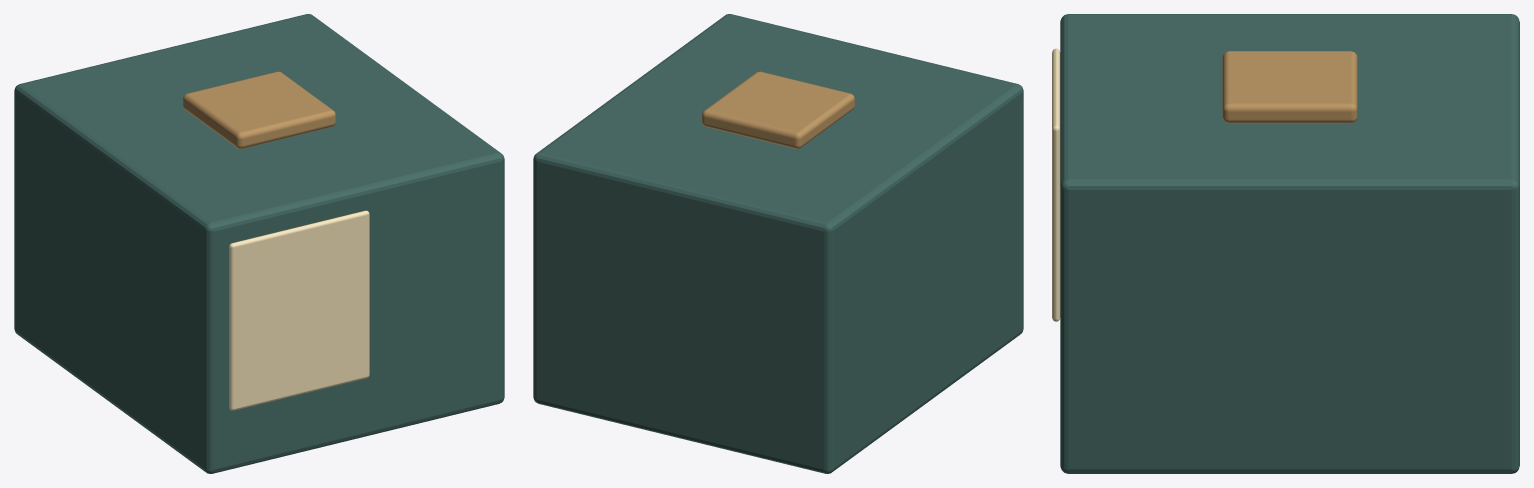
File: motor.glb
The picture shows the model from 3 angles, left to right: view 1: azimuth 30°, elevation 25°; view 2: azimuth 150°, elevation 25°; view 3: azimuth 270°, elevation 25°; orthographic projection. The views are drawn at different scales.
Parts seen in each view (by area): view 1: motor; view 2: motor; view 3: motor.
Boxes of the visible parts, left/top/right/bottom form: motor: left=14, top=14, right=504, bottom=473; motor: left=533, top=14, right=1023, bottom=473; motor: left=1052, top=14, right=1519, bottom=473.
Size of the model in its own units: 0.015 by 0.0128 by 0.0173.
